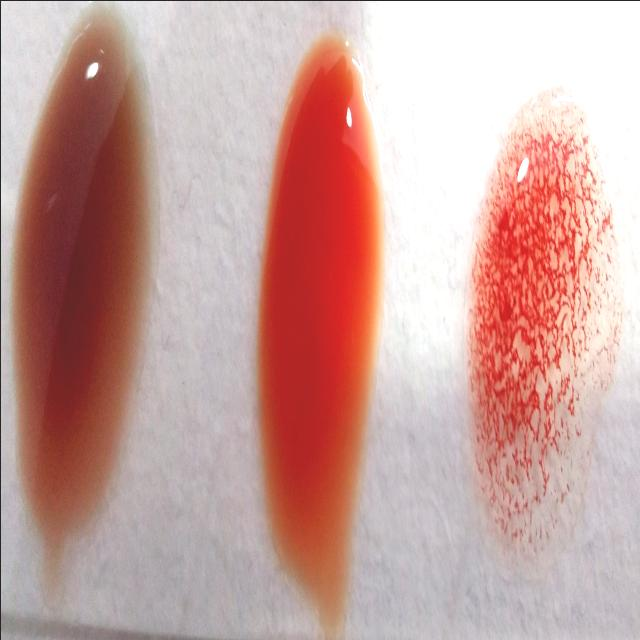D: (472, 100, 608, 555)
